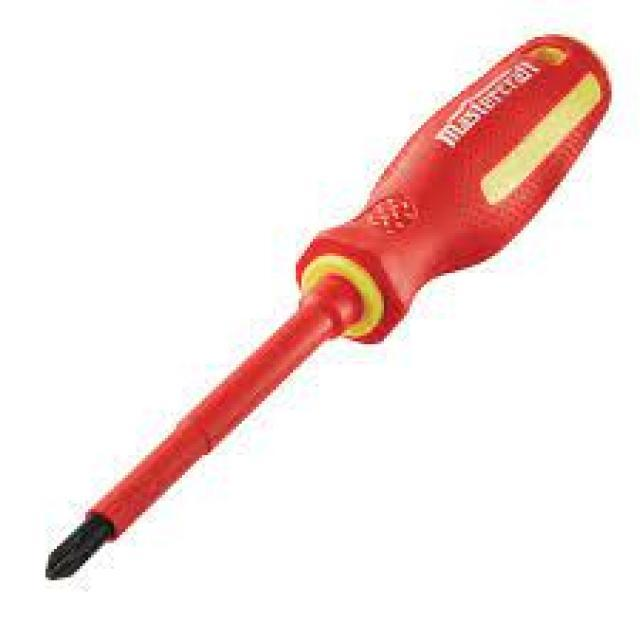screwdriver: (35, 30, 636, 589)
